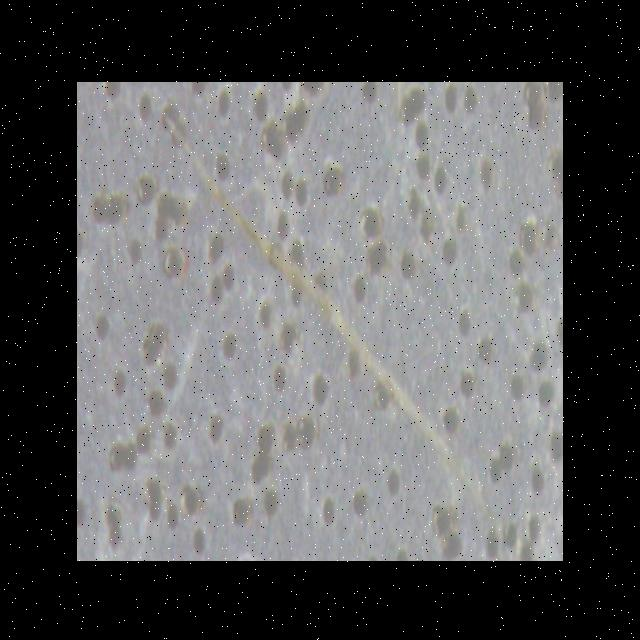Fibre: (160, 106, 498, 540)
